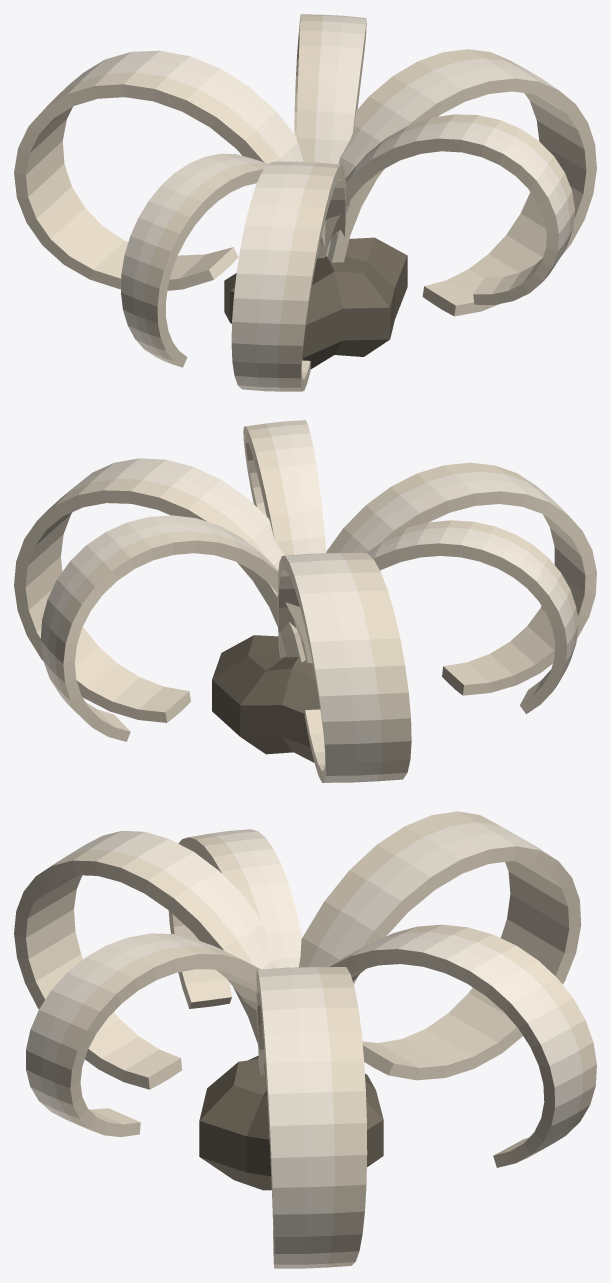
File: gypsum-cave-flower.glb
3 views of the same model, one above another, from view 1: azimuth 30°, elevation 25°; view 2: azimuth 150°, elevation 25°; view 3: azimuth 270°, elevation 25° (orthographic). The views are drawn at different scales.
Parts seen in each view (by area): view 1: curled-crystal-ribbon-02, curled-crystal-ribbon-00, curled-crystal-ribbon-04, curled-crystal-ribbon-05, curled-crystal-ribbon-03, small-common-rock-attachment, curled-crystal-ribbon-01; view 2: curled-crystal-ribbon-02, curled-crystal-ribbon-00, curled-crystal-ribbon-04, curled-crystal-ribbon-01, curled-crystal-ribbon-03, small-common-rock-attachment, curled-crystal-ribbon-05; view 3: curled-crystal-ribbon-02, curled-crystal-ribbon-00, curled-crystal-ribbon-04, curled-crystal-ribbon-01, curled-crystal-ribbon-05, curled-crystal-ribbon-03, small-common-rock-attachment.
Boxes of the visible parts, x1,y1,x2,y2 form: curled-crystal-ribbon-02: (14,50,303,290); curled-crystal-ribbon-00: (327,49,596,316); curled-crystal-ribbon-04: (231,161,346,391); curled-crystal-ribbon-05: (317,114,574,304); curled-crystal-ribbon-03: (121,153,331,367); small-common-rock-attachment: (224,237,407,368); curled-crystal-ribbon-01: (294,14,366,164); curled-crystal-ribbon-02: (277,552,411,782); curled-crystal-ribbon-00: (14,458,305,722); curled-crystal-ribbon-04: (326,462,596,695); curled-crystal-ribbon-01: (40,515,312,741); curled-crystal-ribbon-03: (366,520,578,714); small-common-rock-attachment: (212,635,320,762); curled-crystal-ribbon-05: (243,420,326,555); curled-crystal-ribbon-02: (299,811,581,1080); curled-crystal-ribbon-00: (256,967,367,1268); curled-crystal-ribbon-04: (14,830,275,1089); curled-crystal-ribbon-01: (330,924,596,1167); curled-crystal-ribbon-05: (26,933,260,1137); curled-crystal-ribbon-03: (168,829,301,1008); small-common-rock-attachment: (199,1055,383,1190).
Size of the model in its own units: 0.1201 by 0.0604 by 0.1071.
